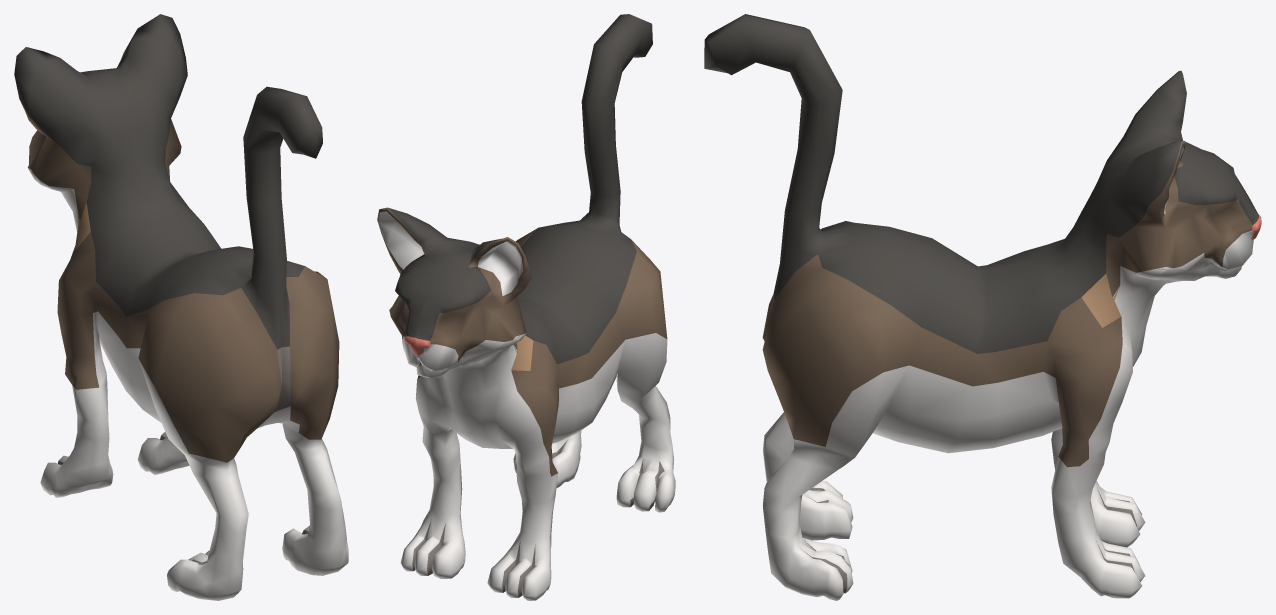
The model's file is cats.fbx.
3 views of the same model, side by side, from view 1: azimuth 30°, elevation 25°; view 2: azimuth 150°, elevation 25°; view 3: azimuth 270°, elevation 25° (orthographic). The views are drawn at different scales.
Visible parts, largest first — view 1: Empty_Mesh, skeleton; view 2: Empty_Mesh, skeleton; view 3: Empty_Mesh, skeleton.
Boxes of the visible parts, <box> form: Empty_Mesh: <box>14,14,348,600</box>; skeleton: <box>31,171,90,250</box>; Empty_Mesh: <box>377,14,675,600</box>; skeleton: <box>506,335,533,370</box>; Empty_Mesh: <box>704,14,1261,600</box>; skeleton: <box>1081,269,1165,327</box>.
Size of the model in its own units: 0.3793 by 0.979 by 0.9089.
